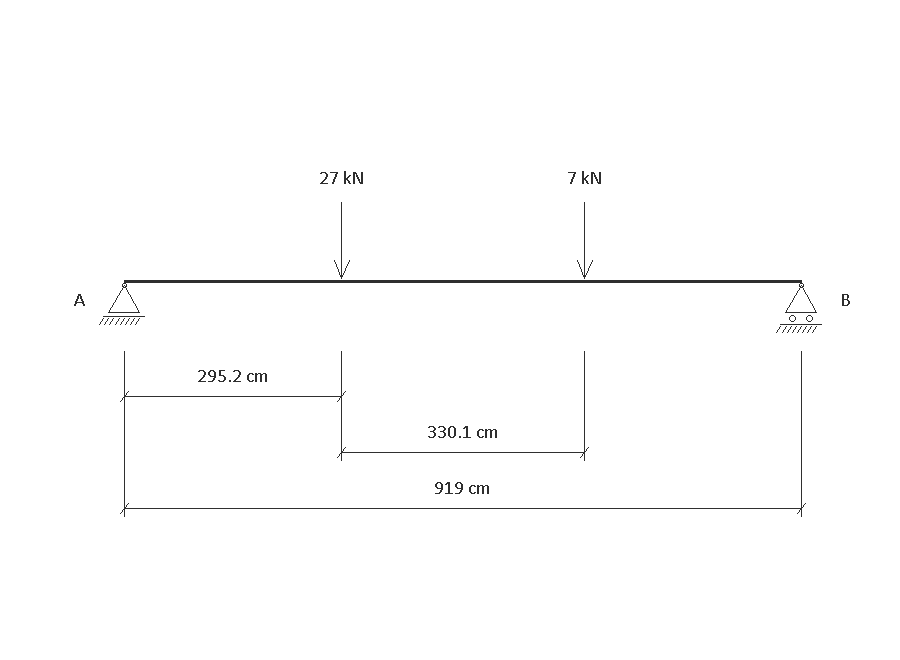pin_support: (99, 283, 145, 325)
point_load: (334, 202, 350, 279), (577, 202, 593, 279)
roller_support: (776, 283, 822, 333)
